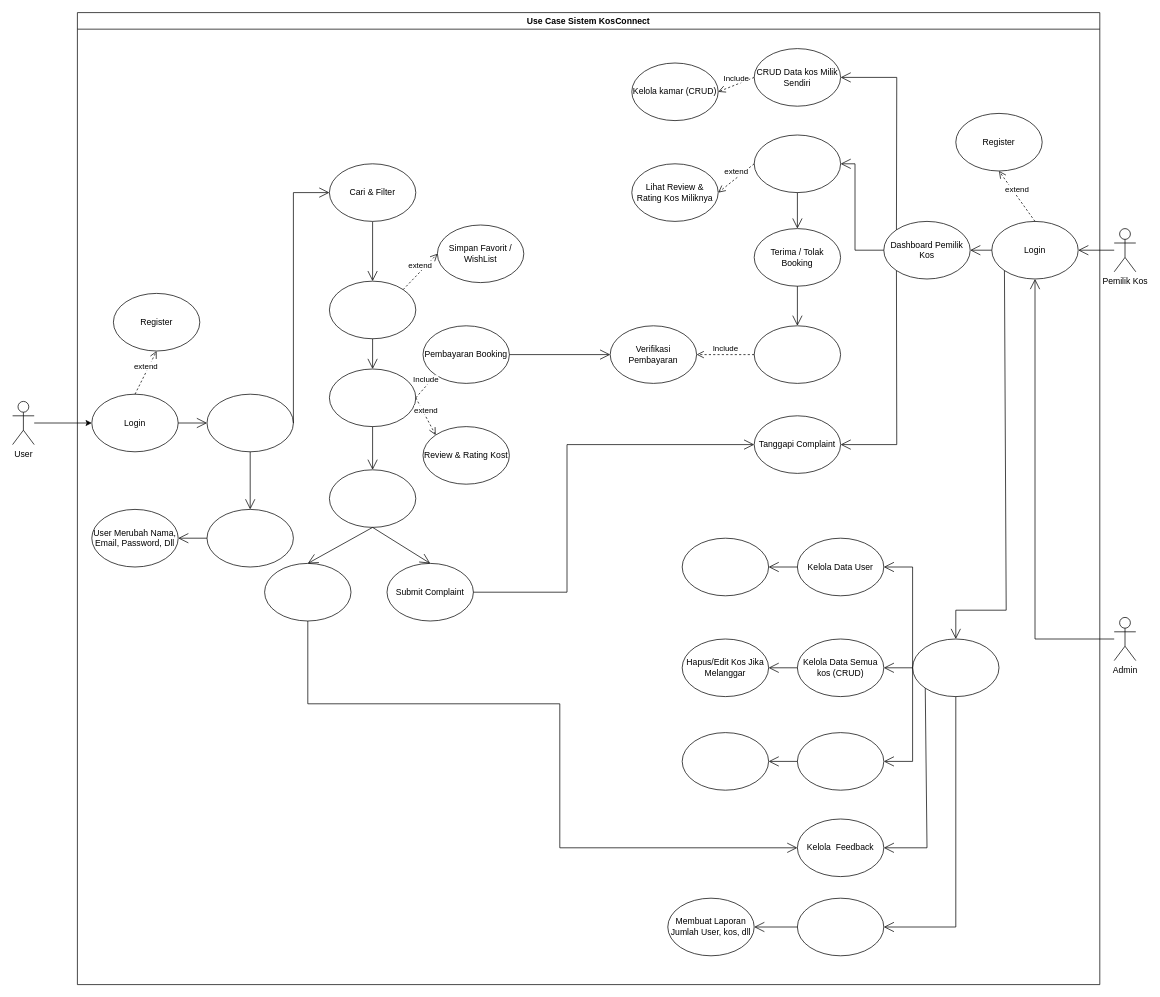
Some shapes in this 1160 by 997 pixel diagram are drawn without their labels. Each missing label, with the centre of its shape:
"Aktifkan/Blokir Akun" belongs at point 725,566.
"Booking Disetujui" belongs at point 797,354.
"Booking Kos / Kamar" belongs at point 372,397.
"Dashboard Admin" belongs at point 955,667.
"Dashboard User" belongs at point 249,422.
"Edit Profil" belongs at point 249,538.
"Feedback Aplikasi" belongs at point 307,592.
"Lihat Booking Untuk Kos Miliknya" belongs at point 797,163.
"Lihat Detail Kost" belongs at point 372,309.
"Liihat Statistik Sistem" belongs at point 840,926.
"Melihat Transaksi di sistem" belongs at point 725,761.
"Monitoring Booking & Pembayaran" belongs at point 840,761.
"Riwayat Booking" belongs at point 372,498.
